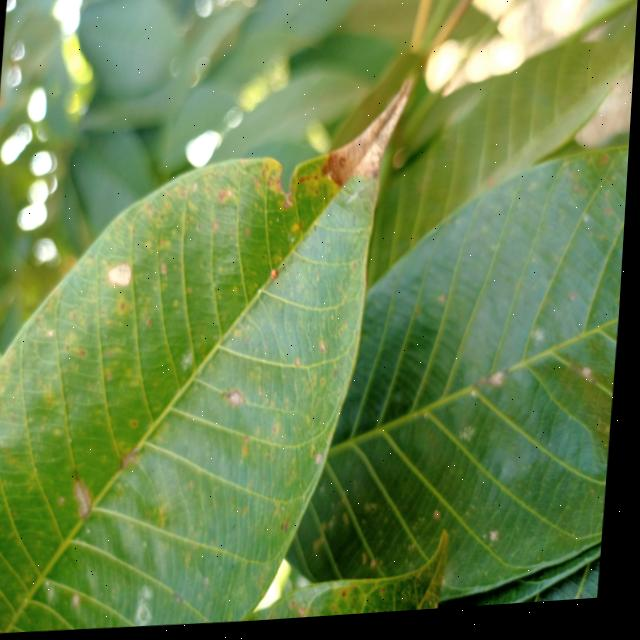Leaf-Blight: (325, 86, 411, 194), (109, 265, 134, 289)
